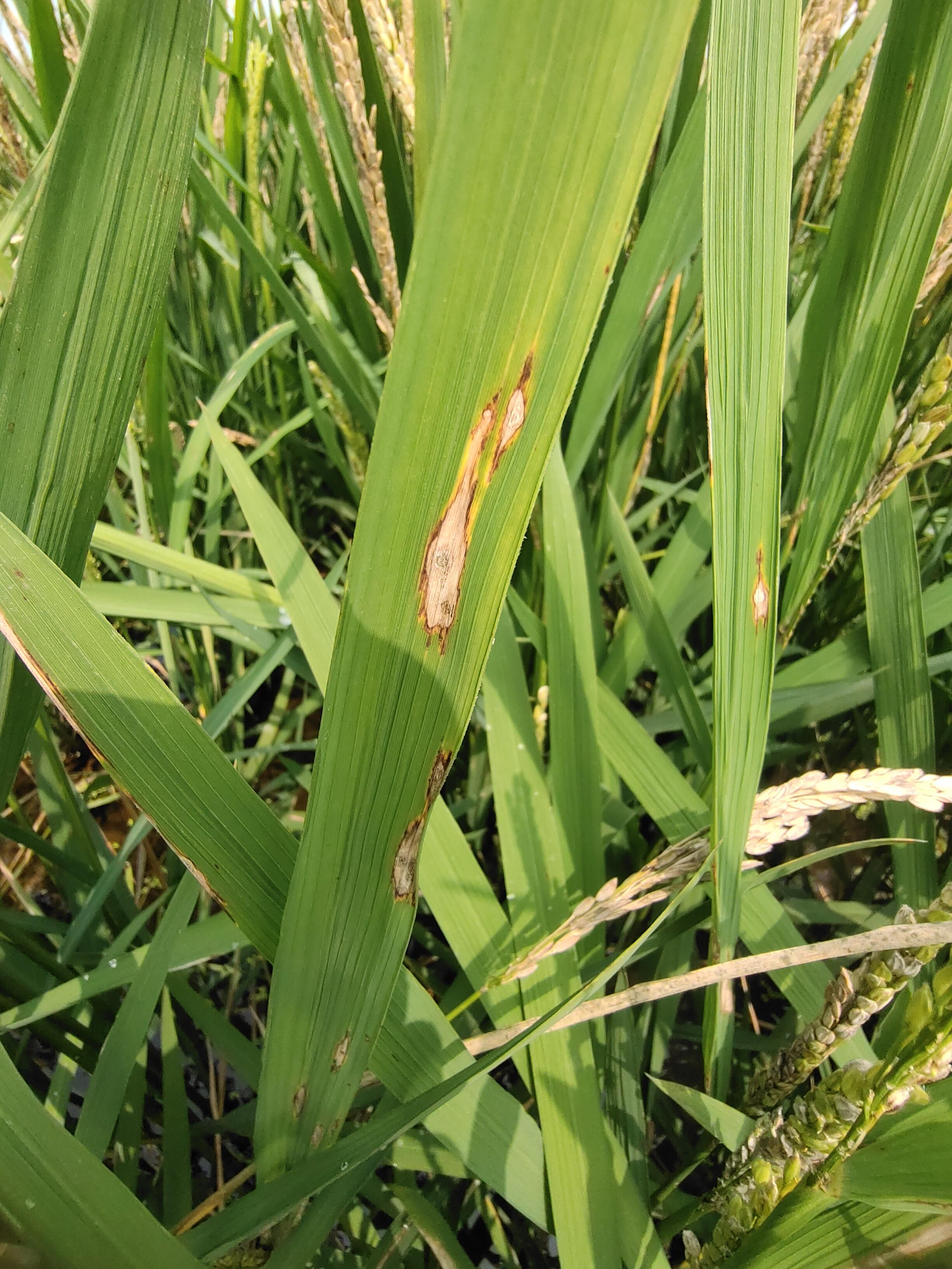LEAF: (255, 0, 702, 1186)
LEAF BLAST: (417, 320, 543, 656), (390, 741, 453, 907), (331, 1025, 349, 1074), (291, 1085, 309, 1119)
